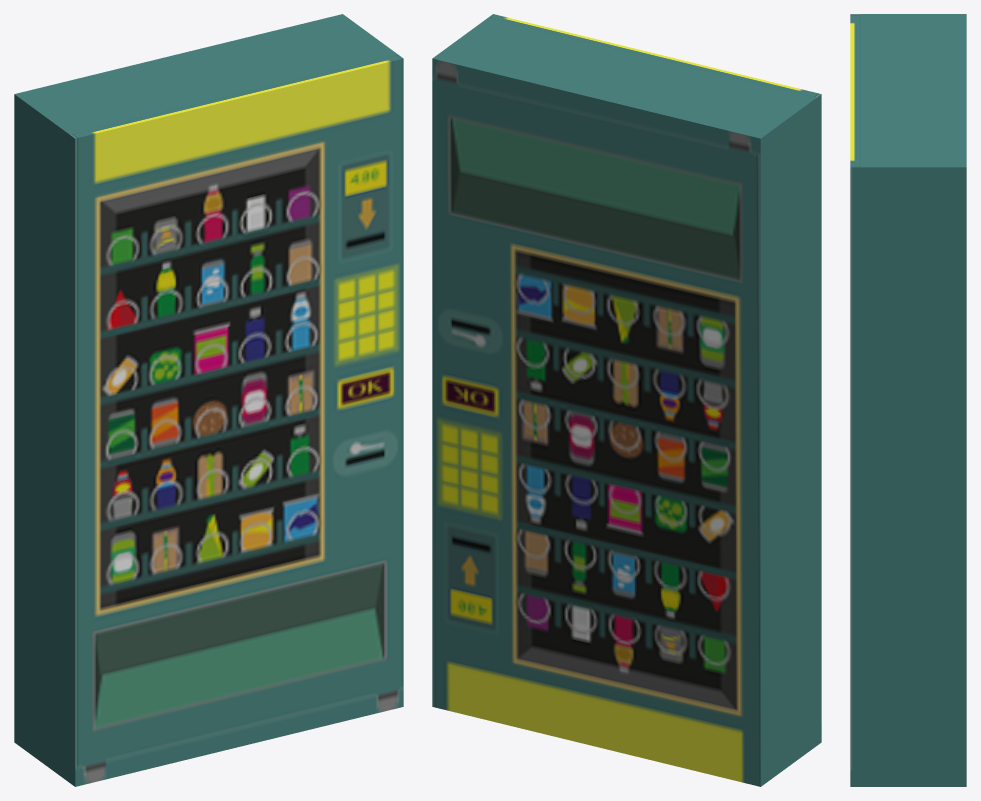
3 renders of one model, left to right at view 1: azimuth 30°, elevation 25°; view 2: azimuth 150°, elevation 25°; view 3: azimuth 270°, elevation 25°, orthographic. The views are drawn at different scales.
Visible parts, largest first — view 1: Box001; view 2: Box001; view 3: Box001.
Boxes of the visible parts, x1,y1,x2,y2 form: Box001: (14, 14, 403, 786); Box001: (432, 14, 821, 786); Box001: (850, 14, 966, 786).
Bounding box in the file's own units: 40.99 × 77.31 × 13.15.
